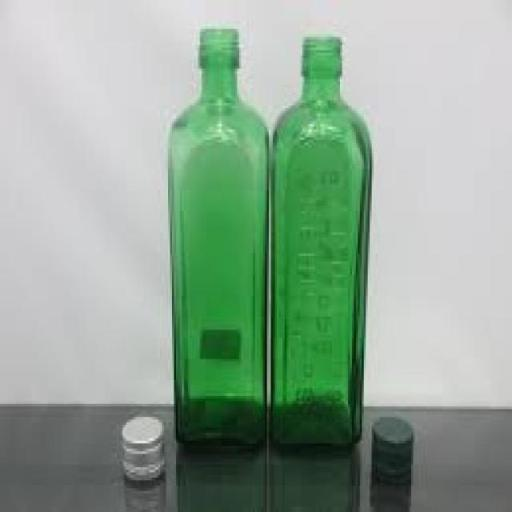glass: (168, 31, 270, 449), (272, 38, 374, 449)
